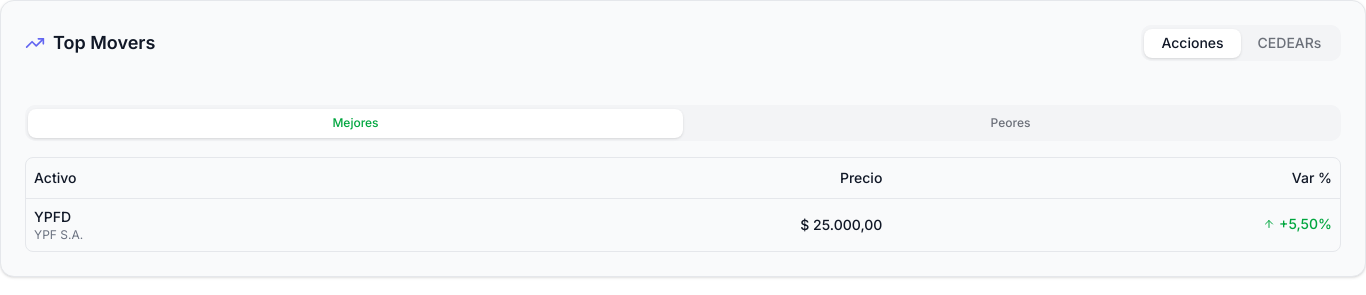
Test: TopMoversTable › switches to losers when clicking Peores tab
The width and height of the screenshot is (1366, 295).
Click the tab "Peores": (1010, 123) [683,108,1338,138]
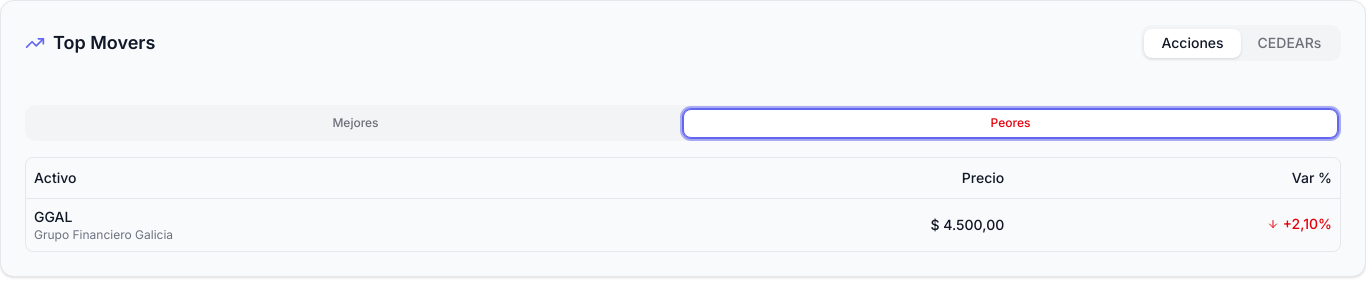
Expected: the text "Grupo Financiero Galicia" is shown, [34,226,173,242]
Expected: the link "YPF S.A." is gone
